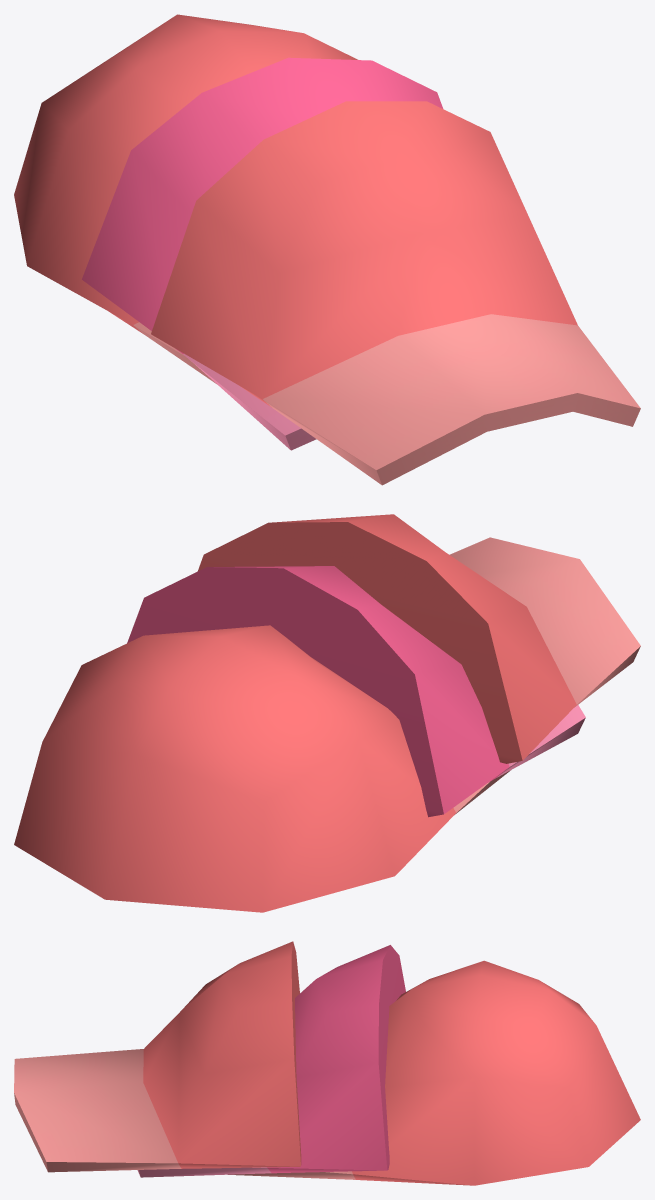
Rendered from clothes_019.glb.
3 renders of one model, top to bottom at view 1: azimuth 30°, elevation 25°; view 2: azimuth 150°, elevation 25°; view 3: azimuth 270°, elevation 25°, orthographic. The views are drawn at different scales.
Visible parts, largest first — view 1: clothes_019; view 2: clothes_019; view 3: clothes_019.
Part boxes in pixels (bbox=[...]): clothes_019: bbox=[14, 14, 640, 485]; clothes_019: bbox=[14, 514, 640, 912]; clothes_019: bbox=[14, 941, 640, 1185].
Bounding box in the file's own units: 0.2523 × 0.1601 × 0.4938.
1 material, 1 textured.
